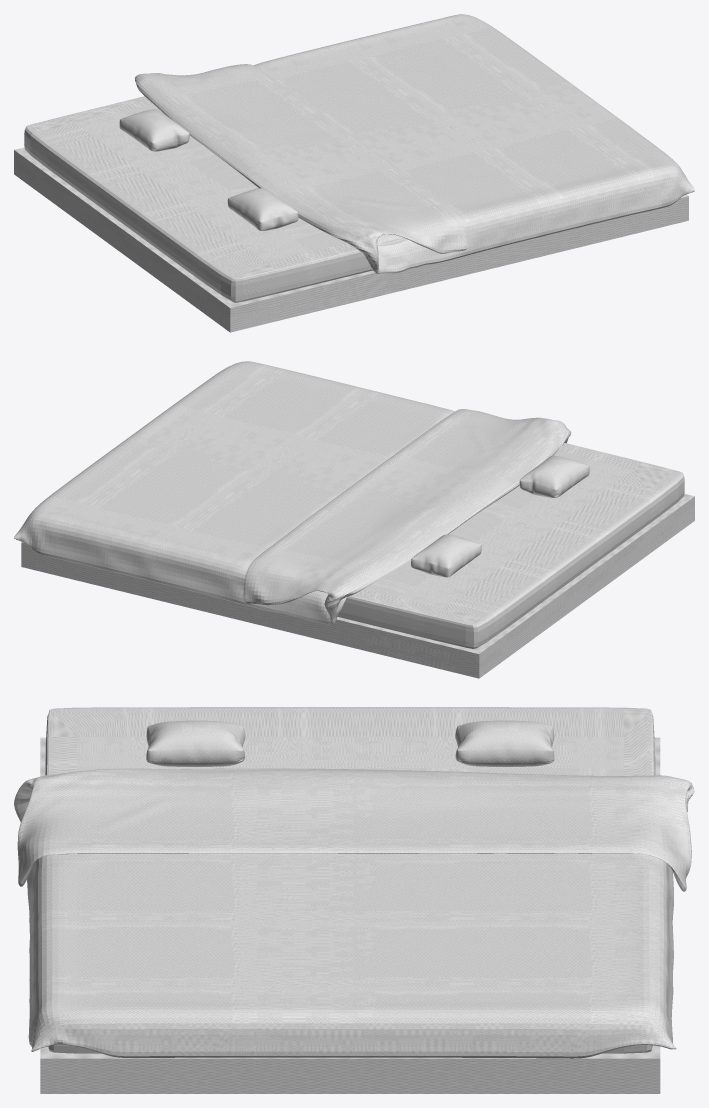
Rendered from Bed1.fbx.
The picture shows the model from 3 angles, top to bottom: view 1: azimuth 30°, elevation 25°; view 2: azimuth 150°, elevation 25°; view 3: azimuth 270°, elevation 25°; orthographic projection. The views are drawn at different scales.
Visible parts, largest first — view 1: 立方体.002; view 2: 立方体.002; view 3: 立方体.002.
Boxes of the visible parts, bbox=[...] form: 立方体.002: bbox=[14, 14, 694, 332]; 立方体.002: bbox=[14, 361, 694, 678]; 立方体.002: bbox=[14, 707, 694, 1093].
Bounding box in the file's own units: 496 × 77.44 × 439.
Materials: 1 (1 with a texture image).
